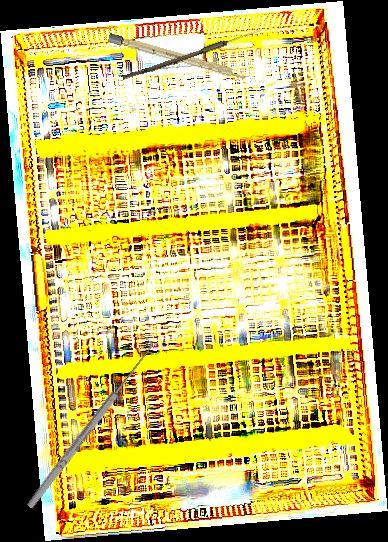Hook Surgical: (18, 335, 159, 511)
Scalpel Handle: (107, 33, 251, 82)
Surgical Spoon: (122, 26, 262, 83)
